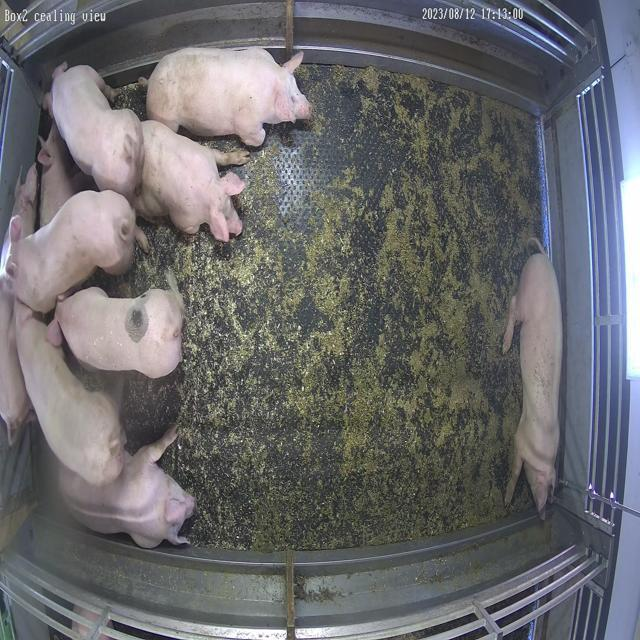Dirt: (93, 65, 543, 552)
Pig: (16, 301, 126, 486), (6, 190, 144, 312), (146, 46, 312, 146), (504, 242, 564, 518), (59, 427, 195, 548), (134, 121, 249, 242), (51, 65, 143, 202), (55, 288, 184, 378), (0, 165, 37, 440), (37, 122, 78, 226)
